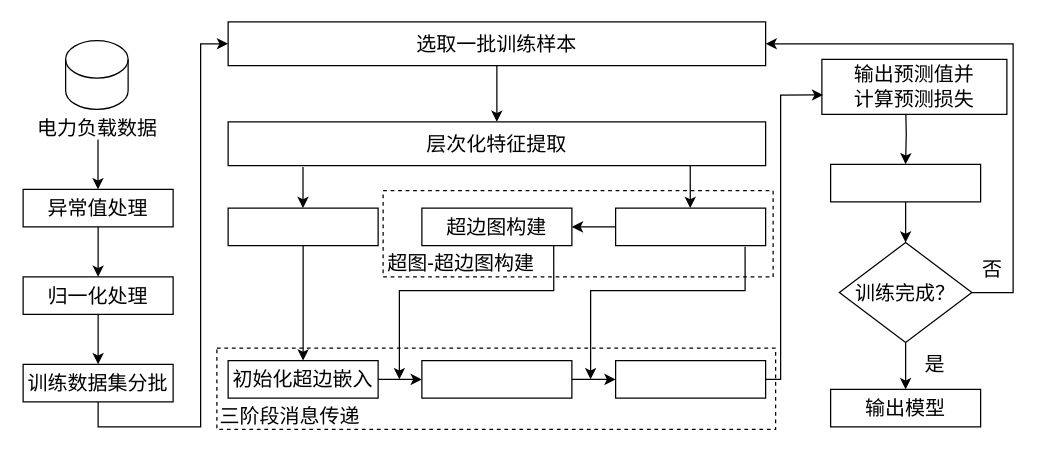
The diagram is 1045 pixels wide and 459 high, and some of its shapes have lost their labels. The box of each missing label's shape, as (x1, y1, x2, y2) in pixels:
初始化节点嵌入: (227, 207, 378, 246)
更新节点嵌入: (614, 359, 766, 398)
更新超边嵌入: (421, 359, 572, 398)
调整参数: (829, 163, 981, 202)
超图构建: (614, 207, 766, 246)
